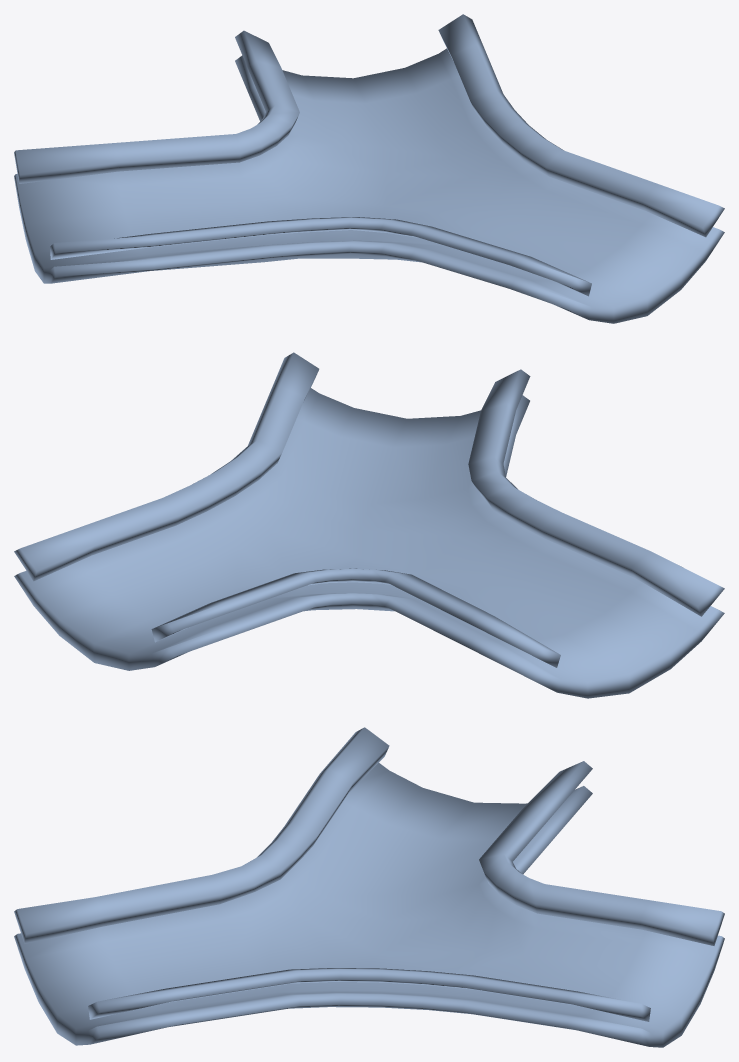
The model's file is junRoadTee5.fbx.
The picture shows the model from 3 angles, top to bottom: view 1: azimuth 30°, elevation 25°; view 2: azimuth 150°, elevation 25°; view 3: azimuth 270°, elevation 25°; orthographic projection. The views are drawn at different scales.
Visible parts, largest first — view 1: tee5_LOD0, tee5_edge_LOD0; view 2: tee5_LOD0, tee5_edge_LOD0; view 3: tee5_LOD0, tee5_edge_LOD0.
Boxes of the visible parts, box(x1,y1,x2,y2) form: tee5_LOD0: box(14, 48, 724, 323); tee5_edge_LOD0: box(14, 14, 724, 296); tee5_LOD0: box(14, 388, 724, 698); tee5_edge_LOD0: box(14, 352, 724, 667); tee5_LOD0: box(14, 763, 724, 1047); tee5_edge_LOD0: box(14, 727, 724, 1021).
Size of the model in its own units: 1706 by 220 by 1818.
